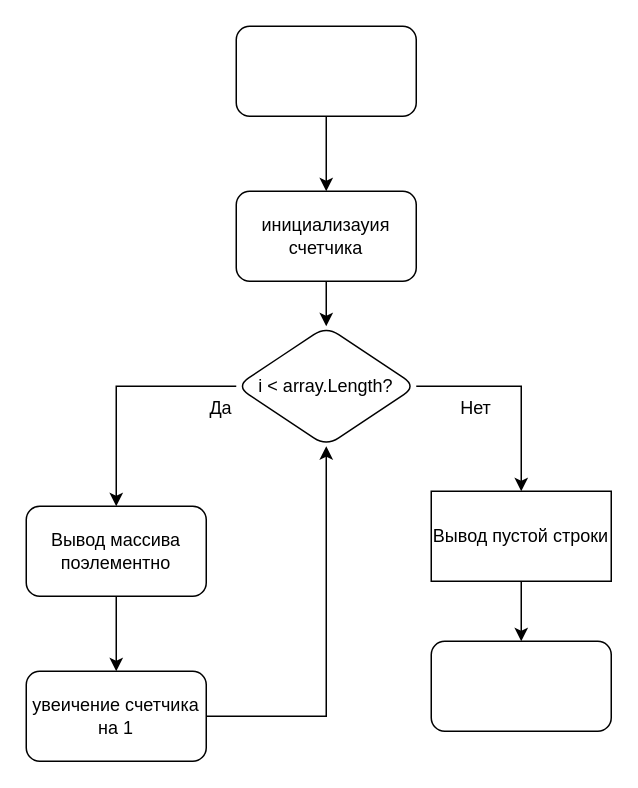
The diagram is 638 pixels wide and 788 high, and some of its shapes have lost their labels. The centre of each missing label's shape, as x and y in pixels:
"Конец" goes at (520,685).
"Начало" goes at (325,70).
